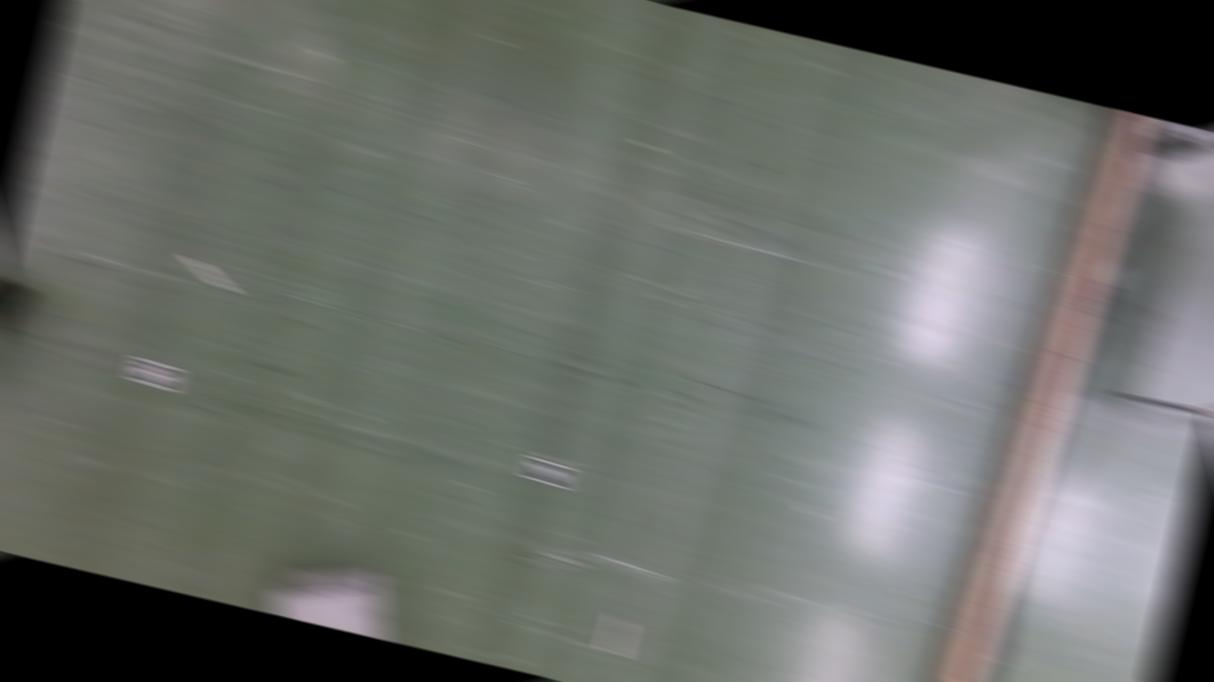probes: (182, 255, 239, 290), (604, 614, 633, 656)
rako: (266, 546, 406, 641)
